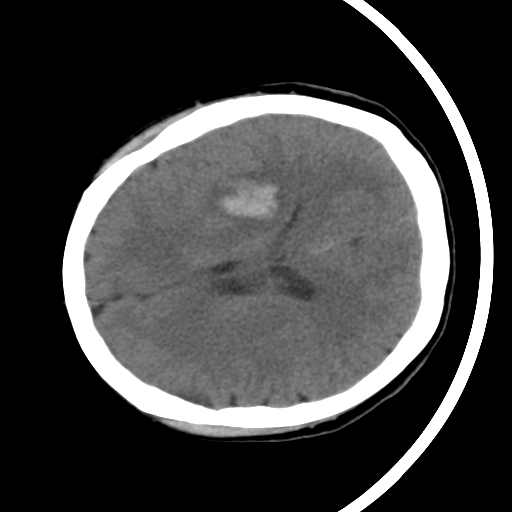a: (196, 156, 295, 238)
